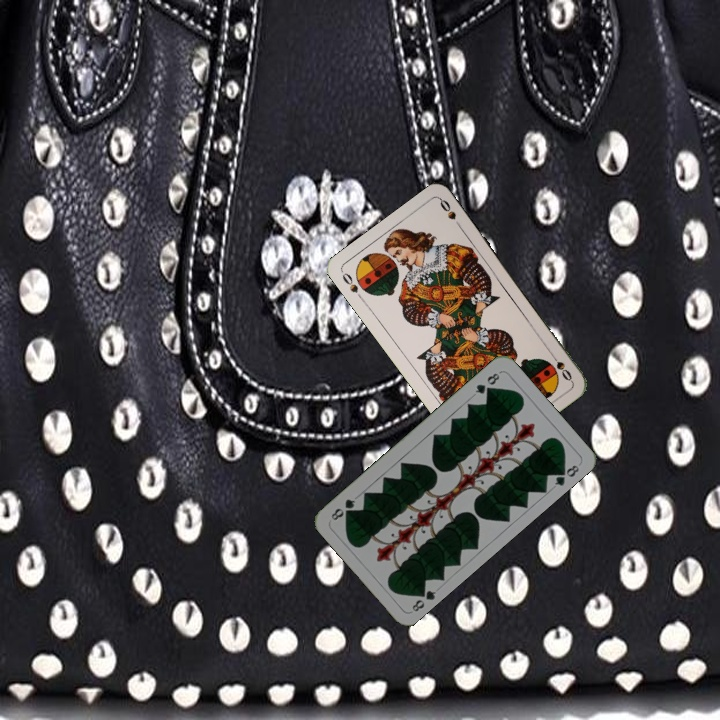G8: (408, 584, 439, 614), (471, 369, 502, 397)
SO: (546, 348, 575, 384), (338, 268, 361, 295)
